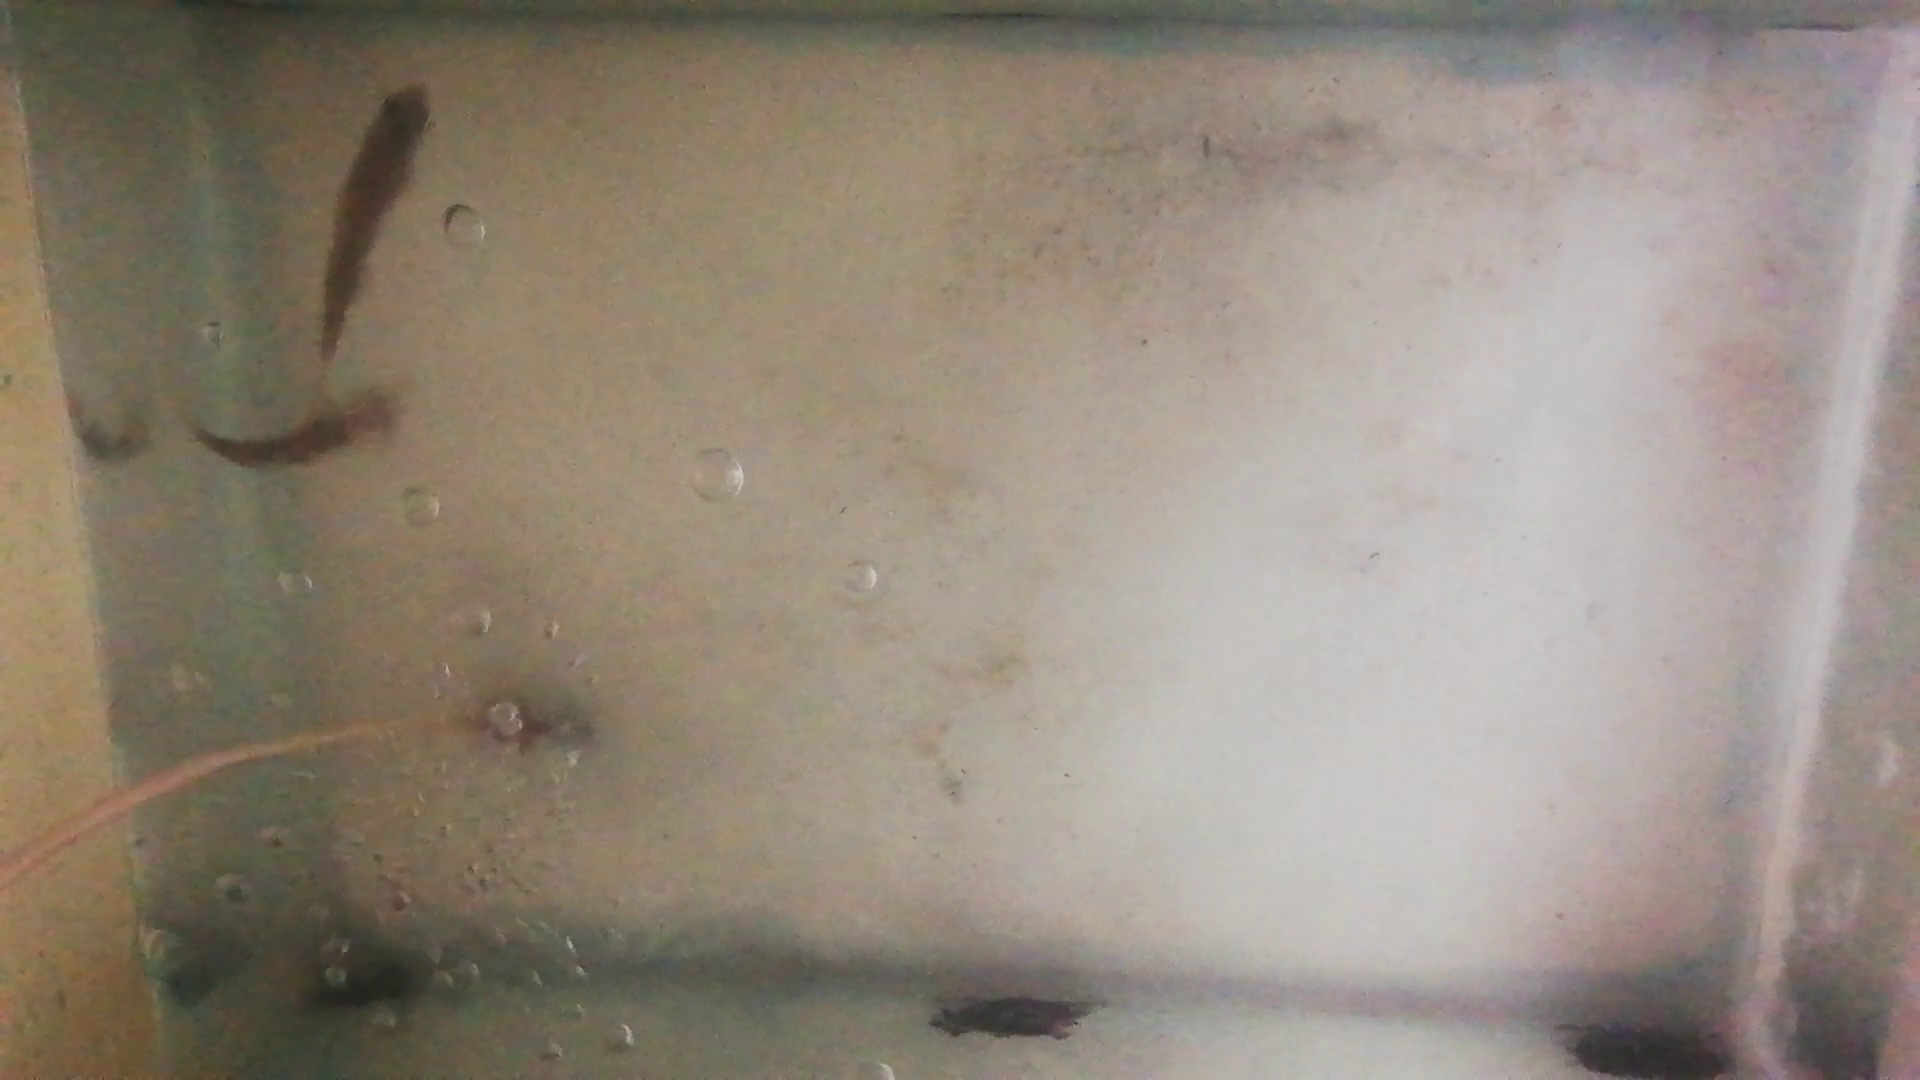fish: (316, 80, 436, 365), (193, 400, 393, 473)
